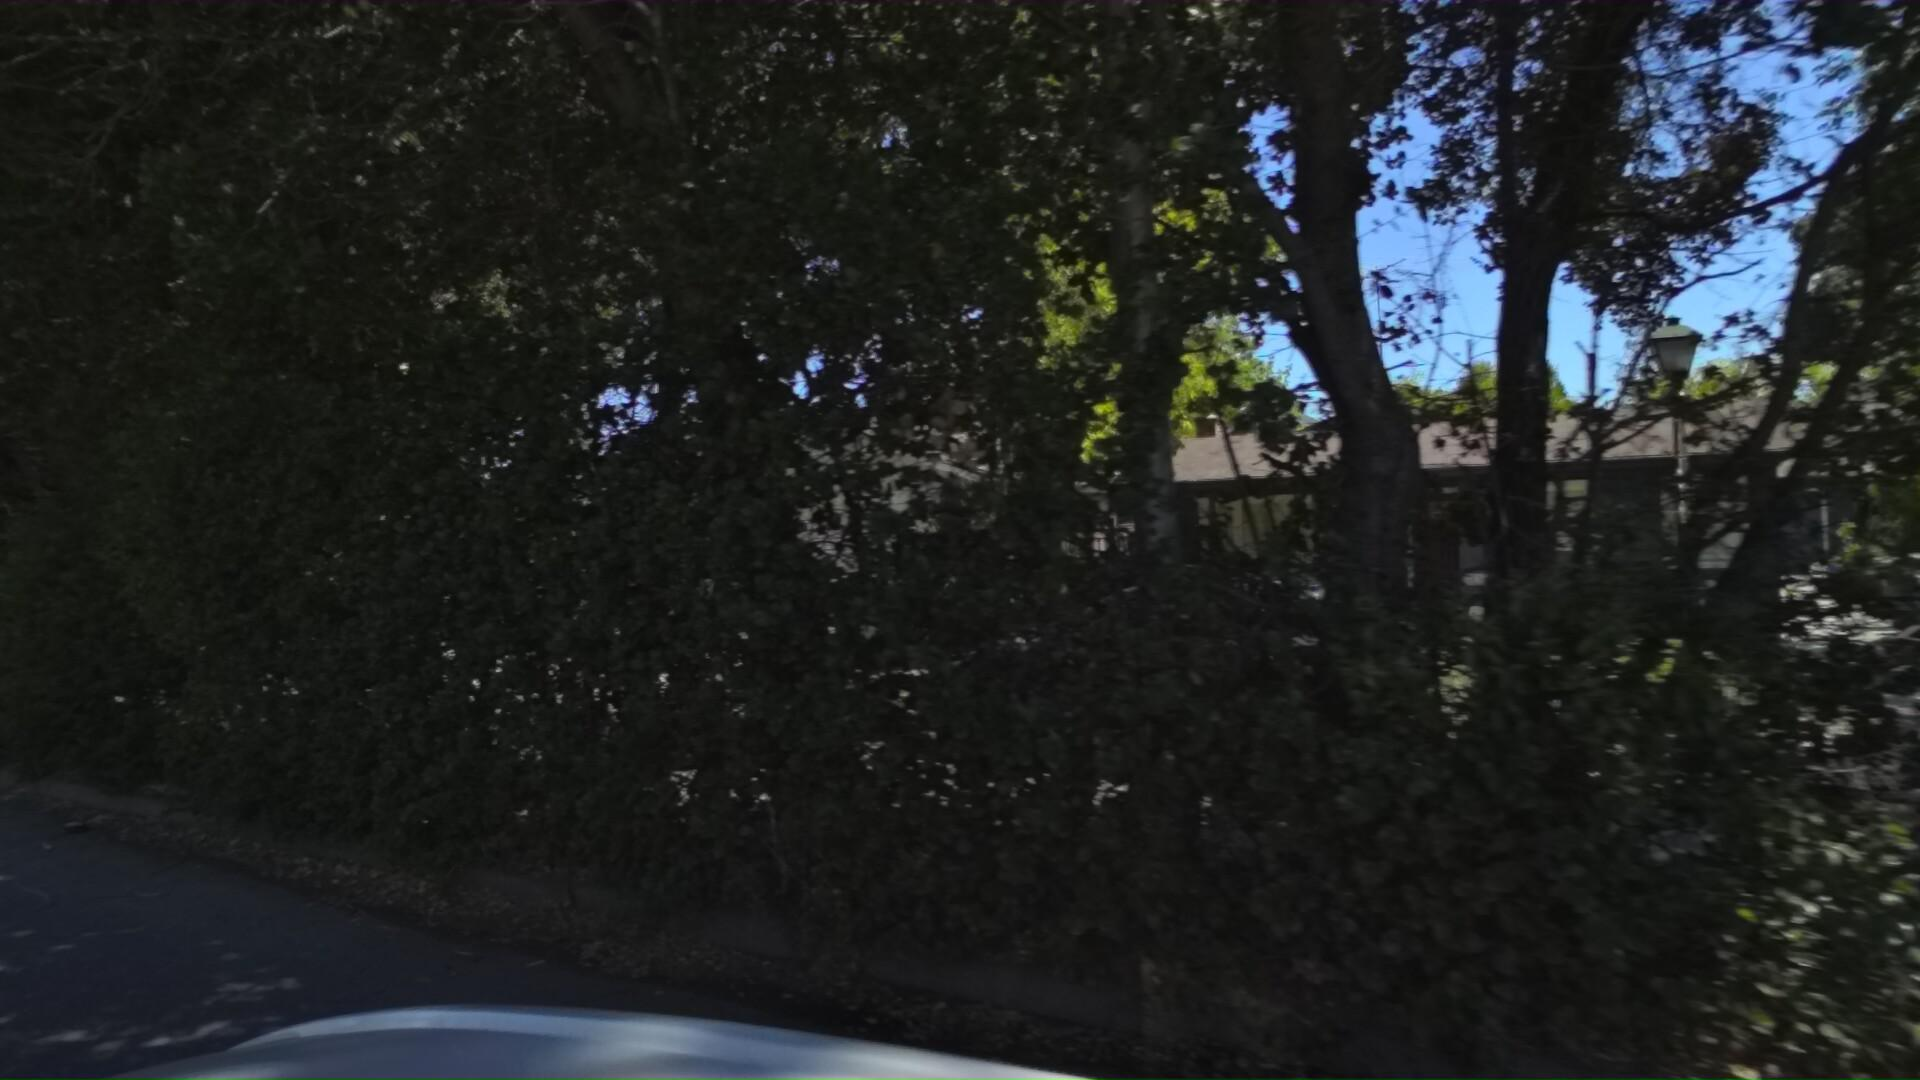car: (934, 563, 1542, 829)
